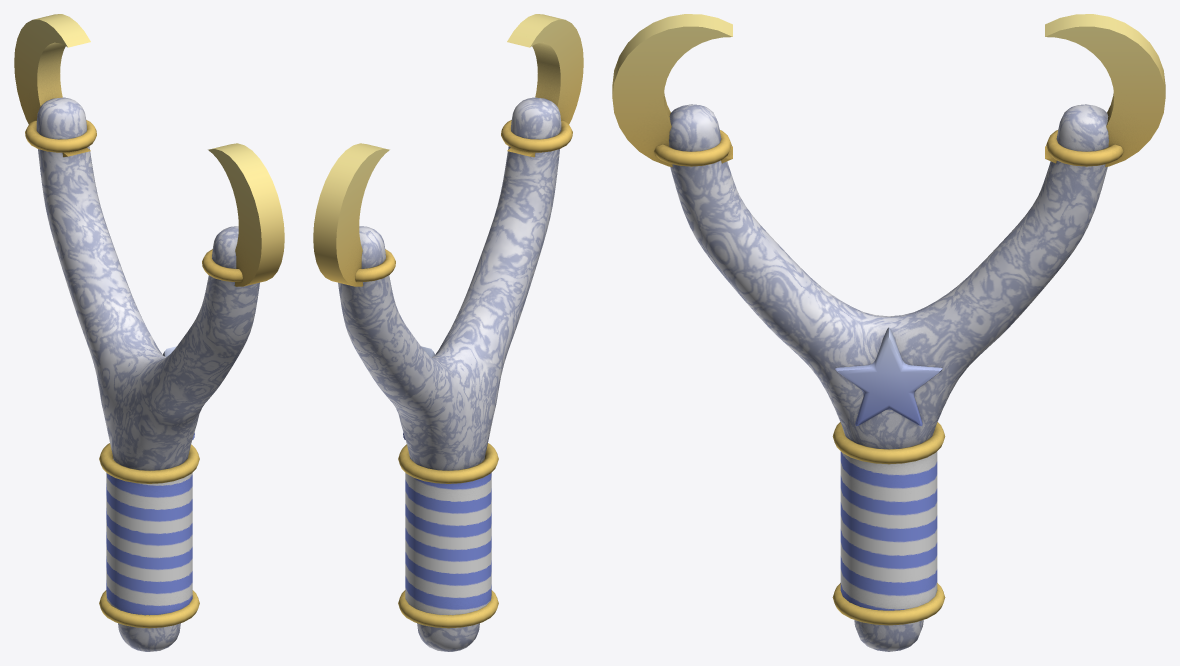
The model's file is Moon Slingshot.fbx.
3 views of the same model, side by side, from view 1: azimuth 30°, elevation 25°; view 2: azimuth 150°, elevation 25°; view 3: azimuth 270°, elevation 25° (orthographic). The views are drawn at different scales.
Parts seen in each view (by area): view 1: Moon Slingshot; view 2: Moon Slingshot; view 3: Moon Slingshot.
Boxes of the visible parts, x1,y1,x2,y2 form: Moon Slingshot: (14,14,284,651); Moon Slingshot: (313,14,583,651); Moon Slingshot: (612,14,1165,651).
Size of the model in its own units: 2.28 by 14.01 by 11.2.
Materials: 1 (1 with a texture image).
